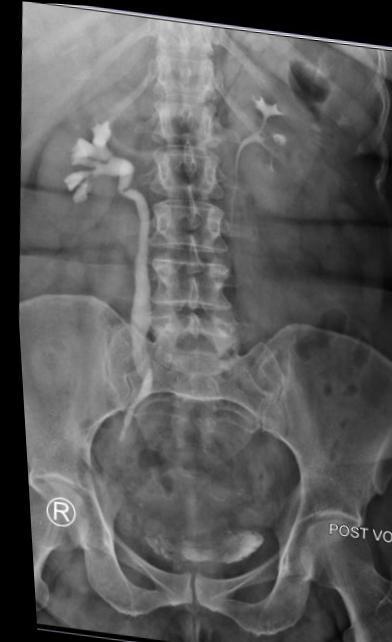bladder: (106, 486, 272, 580)
left kidney: (223, 55, 338, 218)
right kidney: (20, 73, 142, 243)
vertebrae: (148, 88, 229, 149)
